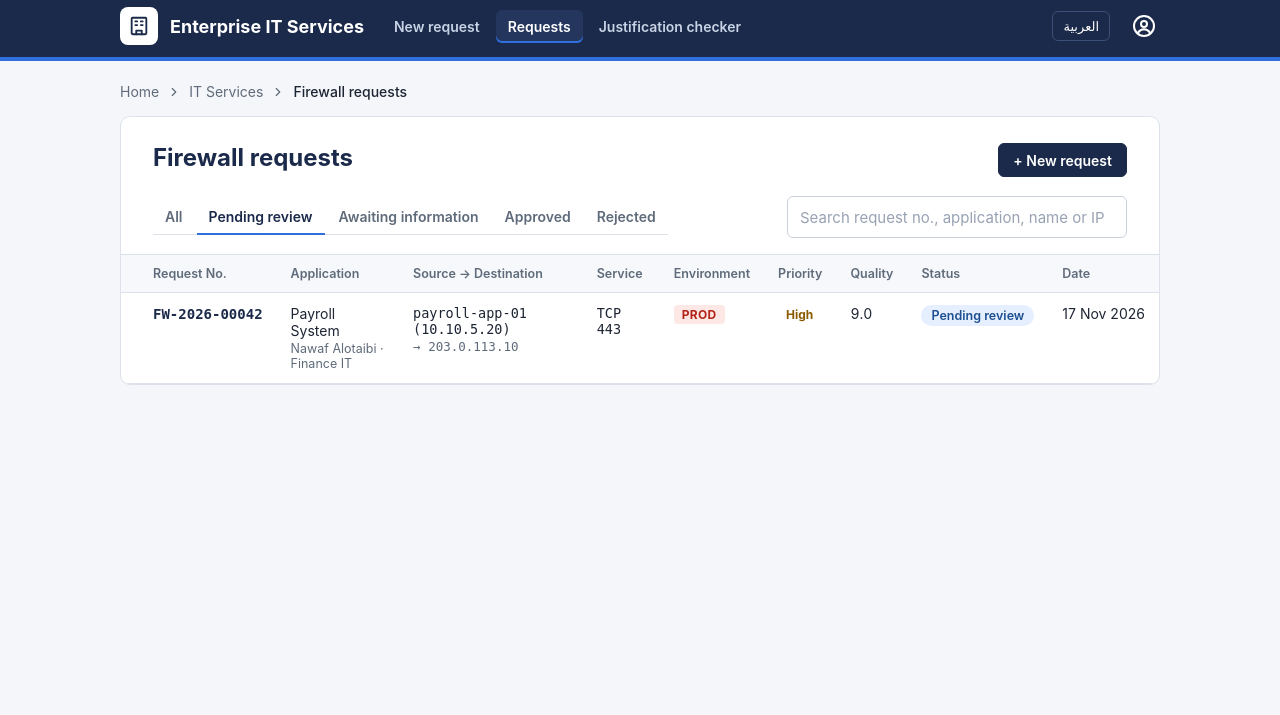
it: queue opens the request; engineer approves
expect the text "Pending review" is shown: met, box [922,305,1034,326]
Click the link "FW-2026-00042" at (208,314), box [153,306,263,322]
(page scrolled)
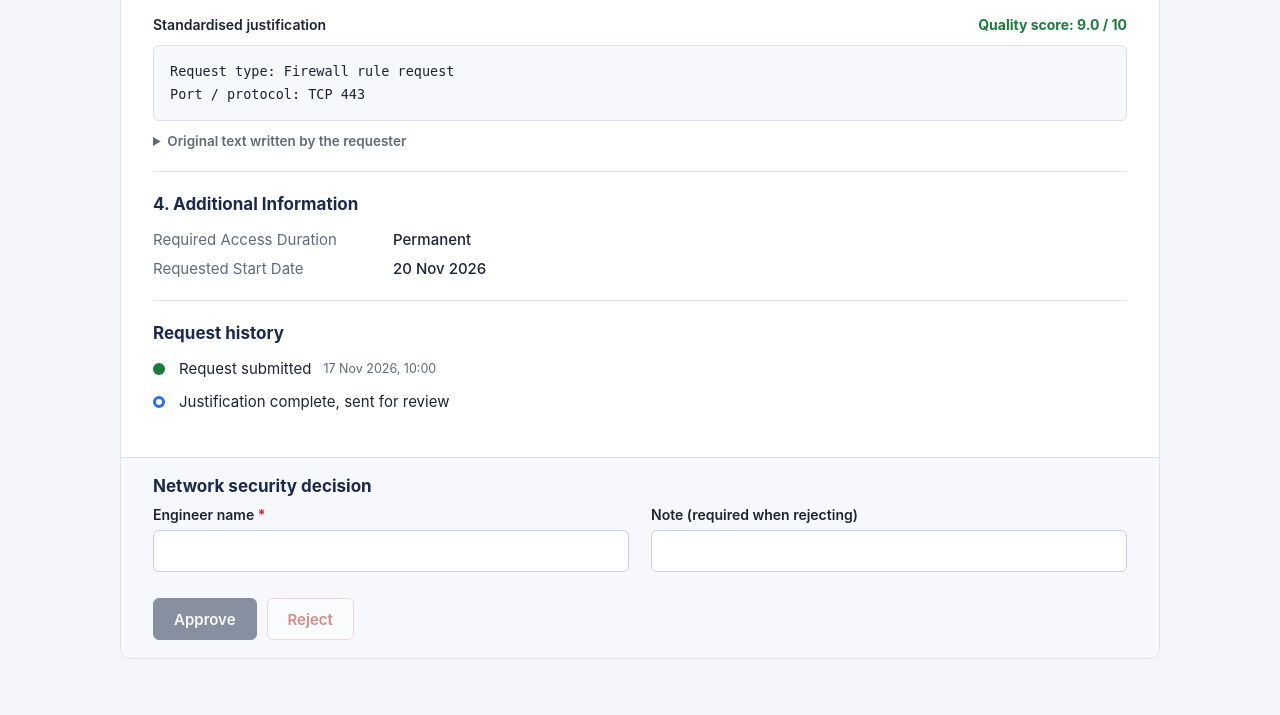
expect the button "Approve" is disabled: met, box [153,598,256,640]
expect the text "Request type: Firewall rule request Port / protocol: TCP 443" is shown: met, box [153,45,1127,121]
Type "Sara" into the field labelled "Engineer name *" at (391,551), box [153,530,629,572]
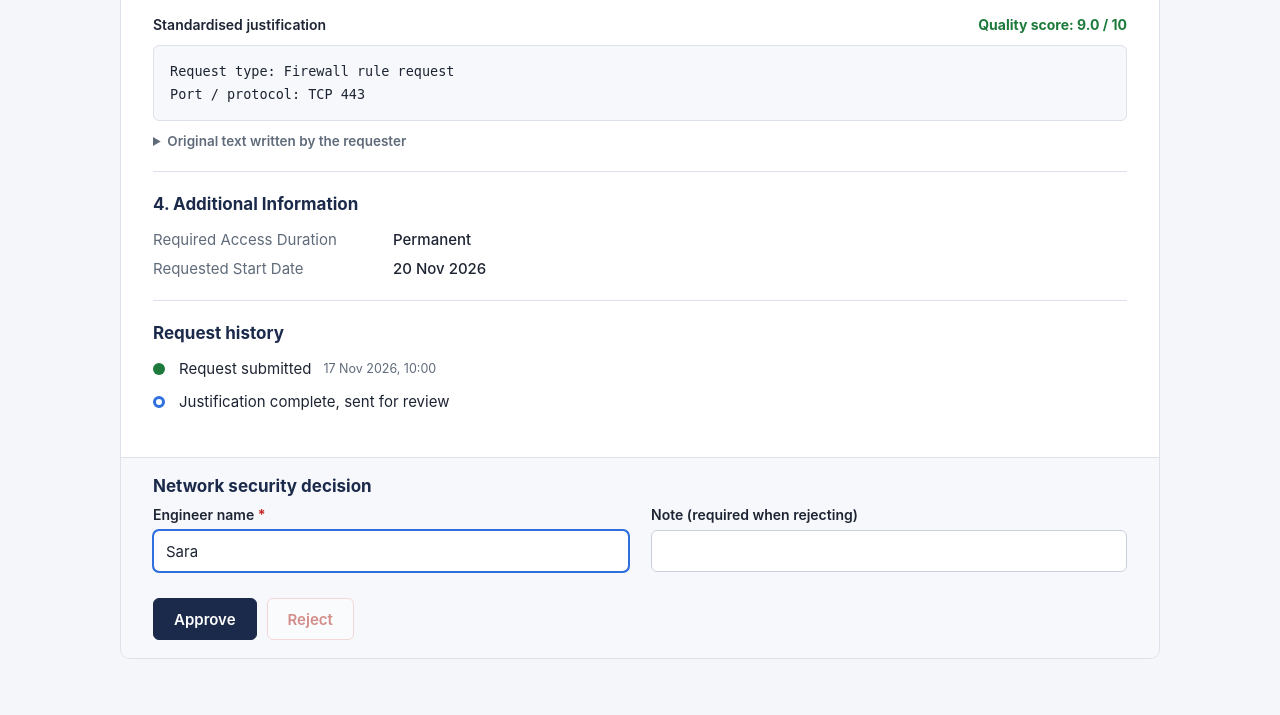
Click the button "Approve" at (205,619), box [153,598,256,640]
(page scrolled)
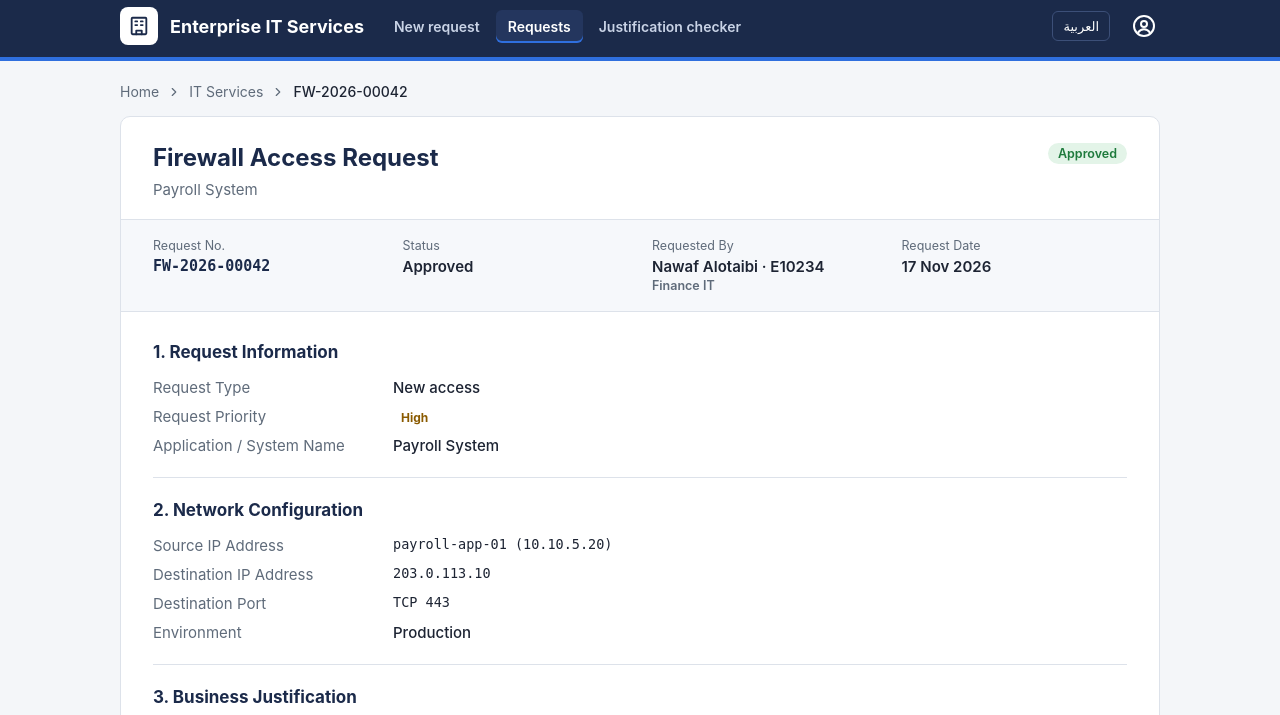
expect the text "Approved" in the row of "Firewall Access Request" is shown: met, box [1058,146,1117,161]
